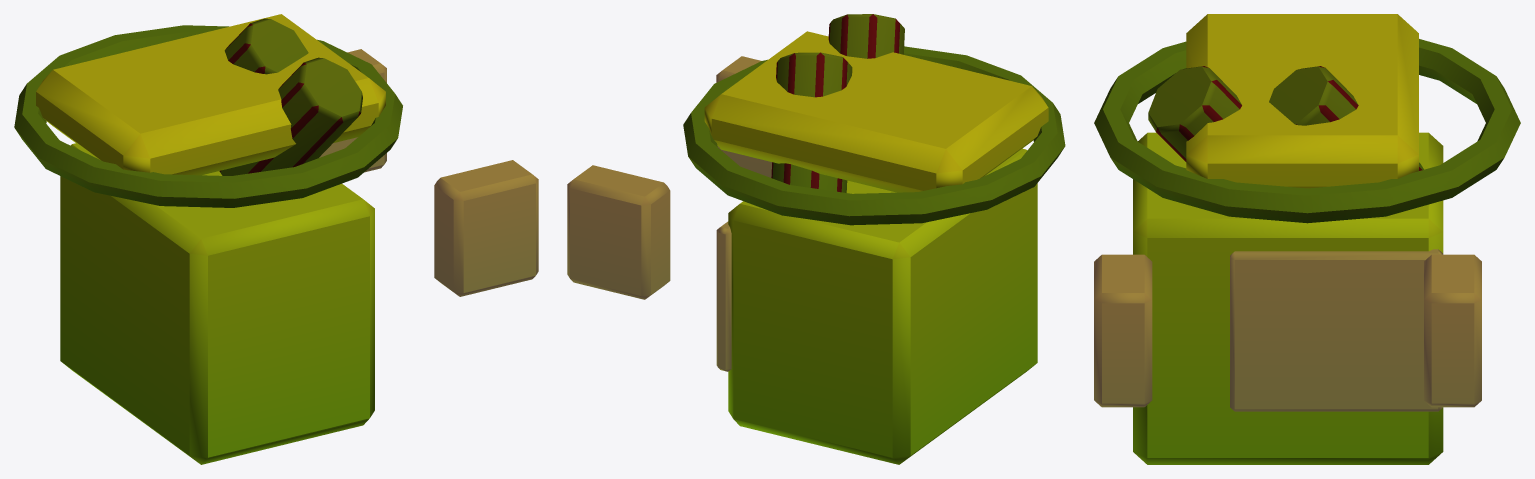
Rendered from RCLModule_arachnid_hexapod_pulsar_magnetic_shield.fbx.
3 renders of one model, left to right at view 1: azimuth 30°, elevation 25°; view 2: azimuth 150°, elevation 25°; view 3: azimuth 270°, elevation 25°, orthographic. The views are drawn at different scales.
Parts seen in each view (by area): view 1: RCLModule_arachnid_hexapod_pulsar_magnetic_shield_Batch_RCLM (×3); view 2: RCLModule_arachnid_hexapod_pulsar_magnetic_shield_Batch_RCLM (×3); view 3: RCLModule_arachnid_hexapod_pulsar_magnetic_shield_Batch_RCLM (×3).
Boxes of the visible parts, x1,y1,x2,y2 form: RCLModule_arachnid_hexapod_pulsar_magnetic_shield_Batch_RCLM (×3): [14, 14, 538, 464]; RCLModule_arachnid_hexapod_pulsar_magnetic_shield_Batch_RCLM (×3): [567, 14, 1065, 464]; RCLModule_arachnid_hexapod_pulsar_magnetic_shield_Batch_RCLM (×3): [1094, 14, 1520, 464].
Size of the model in its own units: 52.5 by 43.39 by 44.
